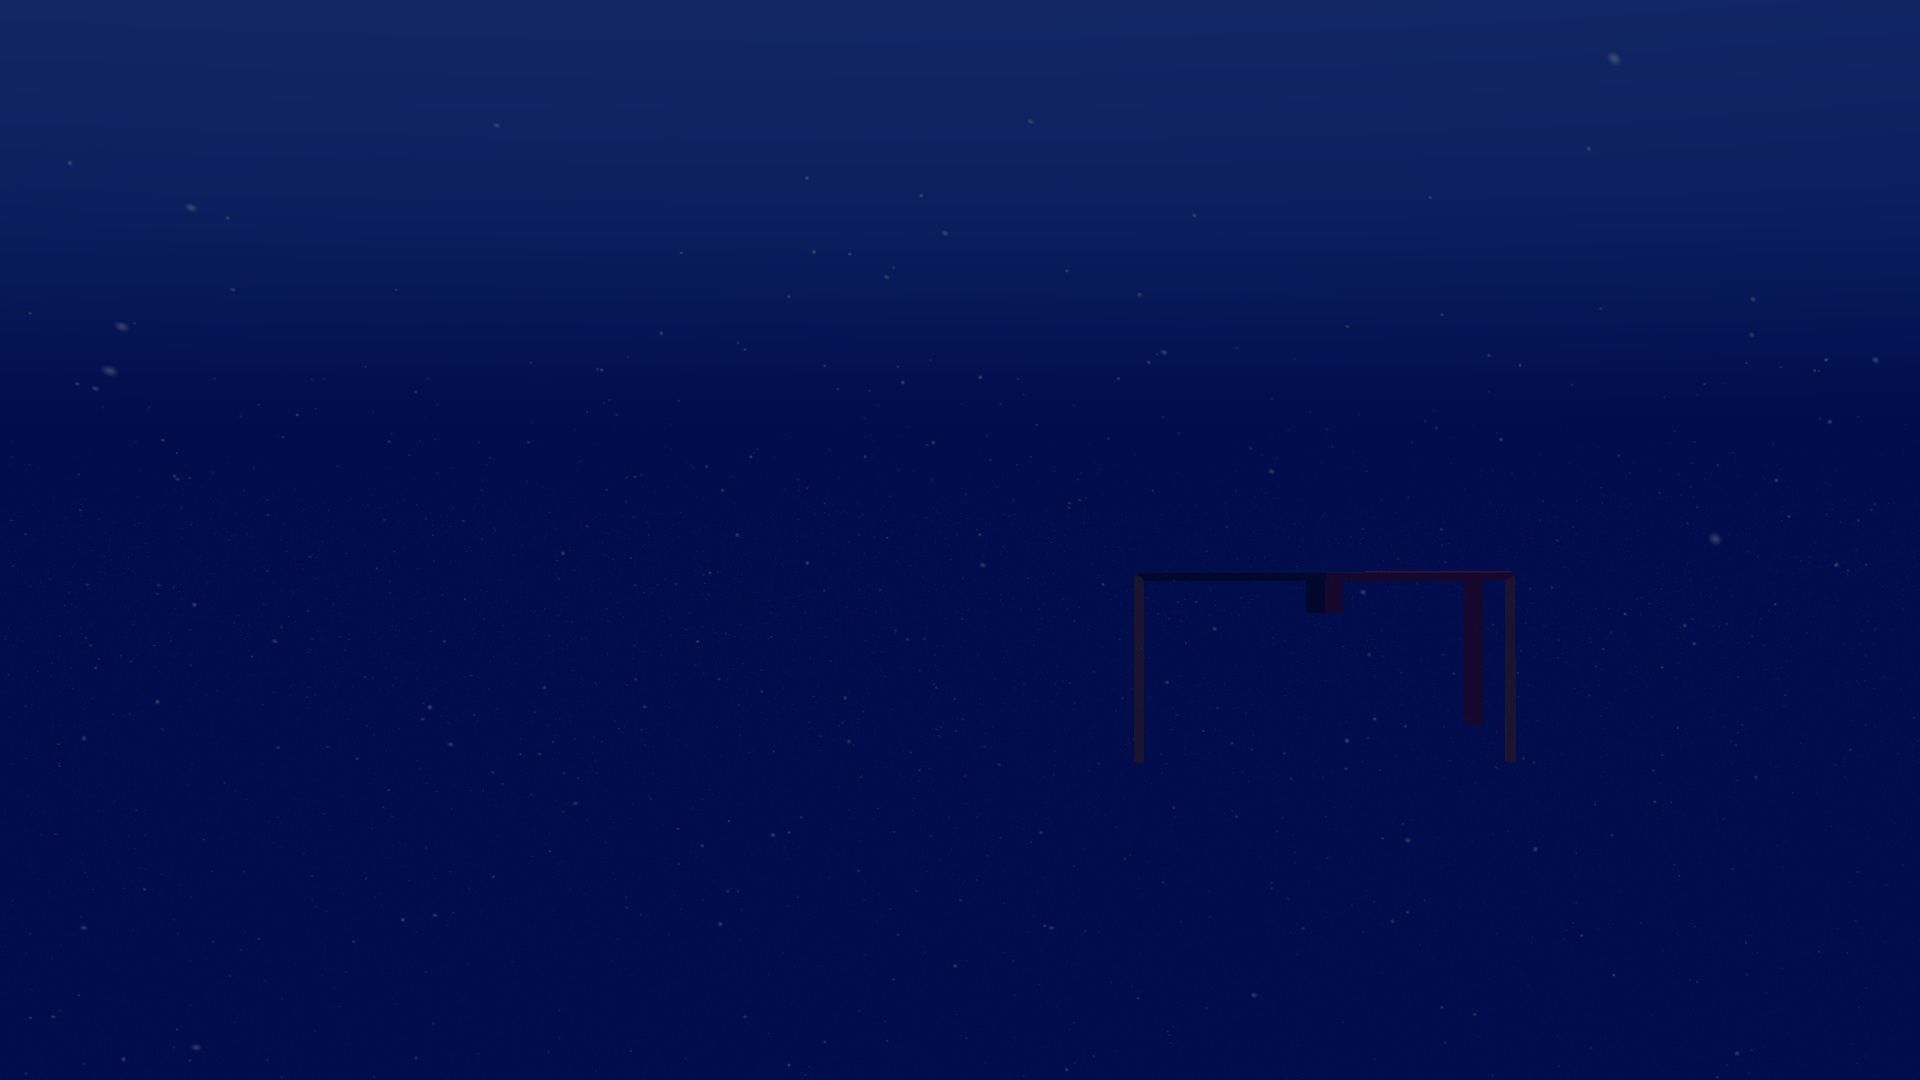Gate: (1127, 564, 1523, 771)
